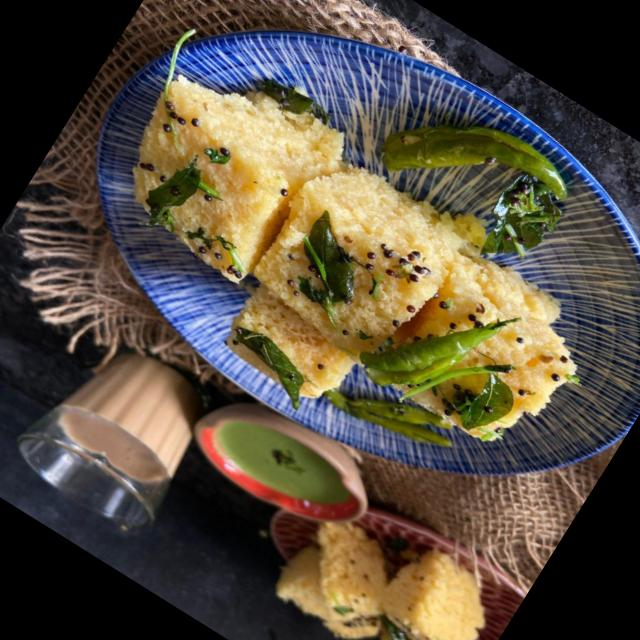dhokla: (39, 37, 620, 520), (257, 482, 505, 640)
